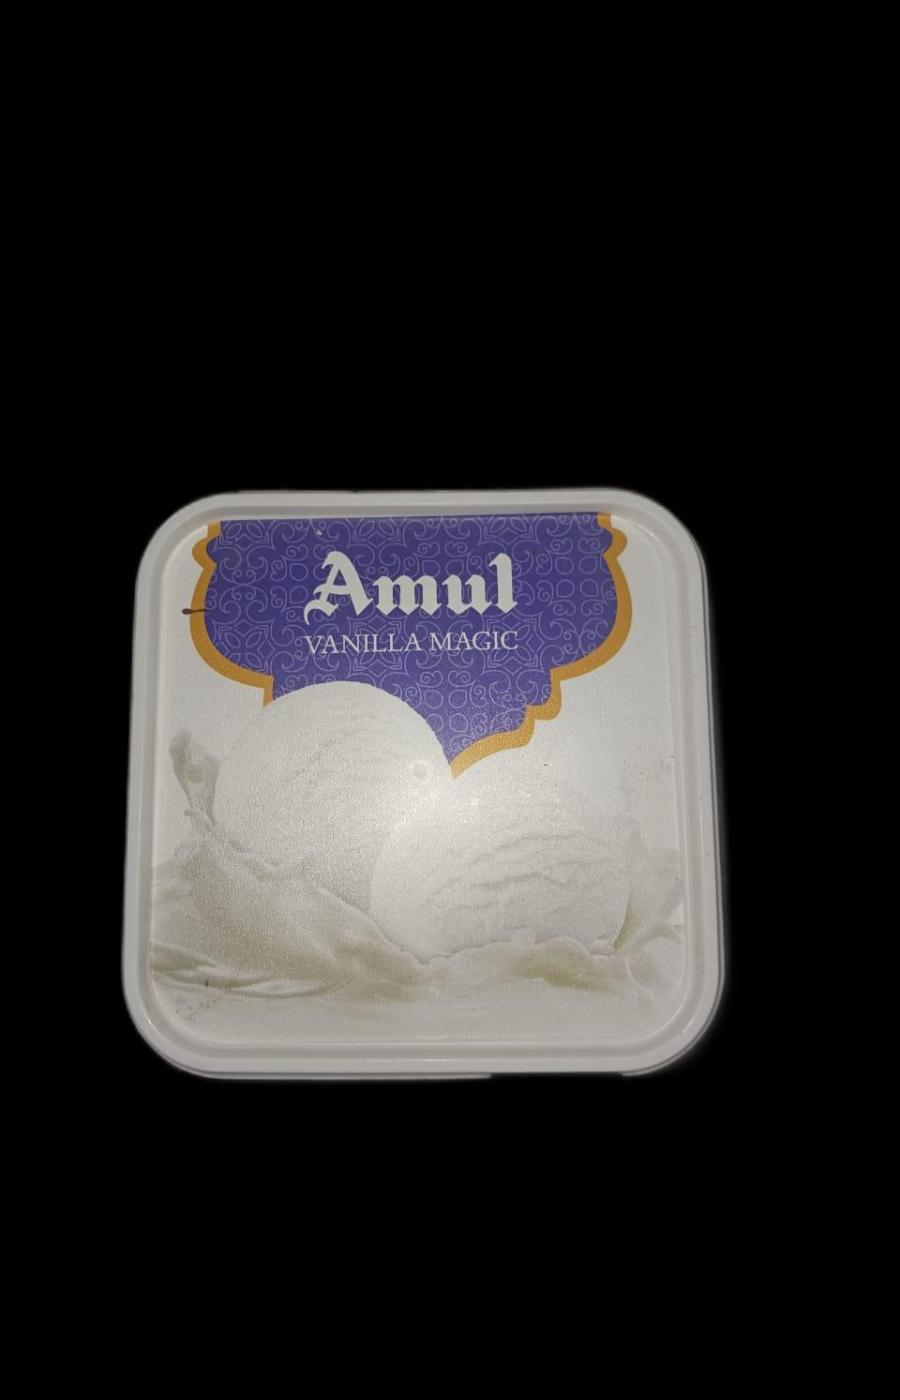Amul Ice Cream - Vanilla Magic 1 L Tub: (115, 471, 741, 1091)
